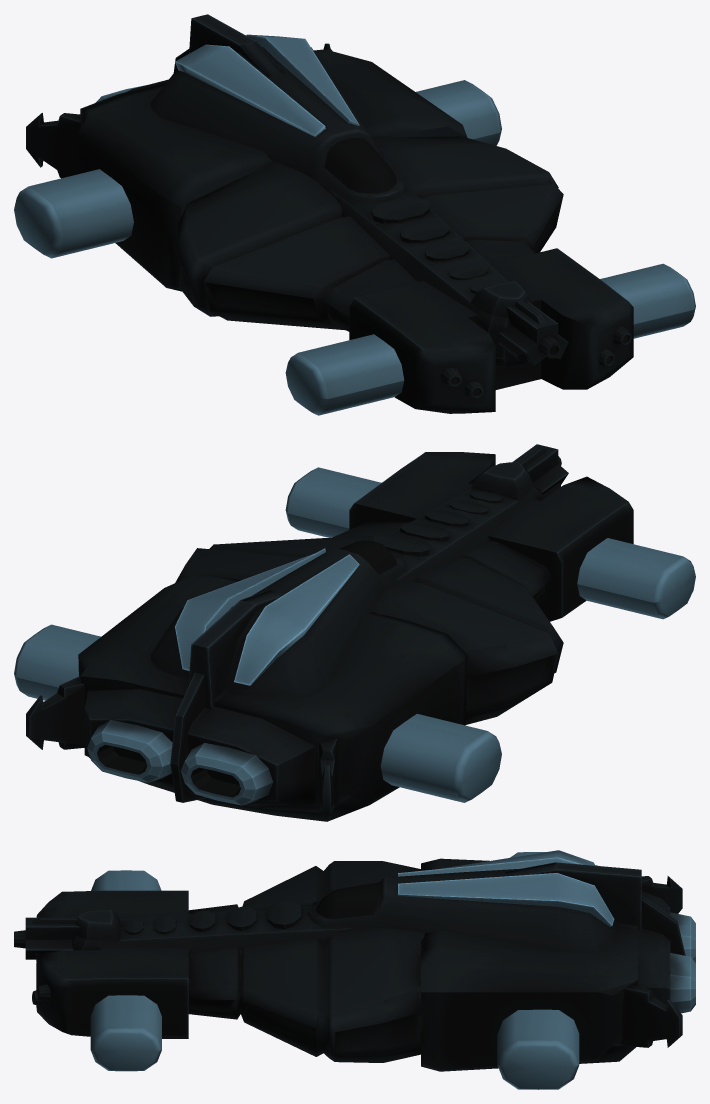
The model's file is CarBody.fbx.
3 views of the same model, one above another, from view 1: azimuth 30°, elevation 25°; view 2: azimuth 150°, elevation 25°; view 3: azimuth 270°, elevation 25° (orthographic). The views are drawn at different scales.
Visible parts, largest first — view 1: Body, gun; view 2: Body, gun; view 3: Body, gun.
Boxes of the visible parts, x1,y1,x2,y2 form: Body: [14, 14, 695, 415]; gun: [498, 299, 568, 365]; Body: [14, 452, 695, 821]; gun: [512, 444, 568, 498]; Body: [32, 850, 695, 1089]; gun: [14, 917, 80, 959].
Bounding box in the file's own units: 12.36 × 4.94 × 18.39.
